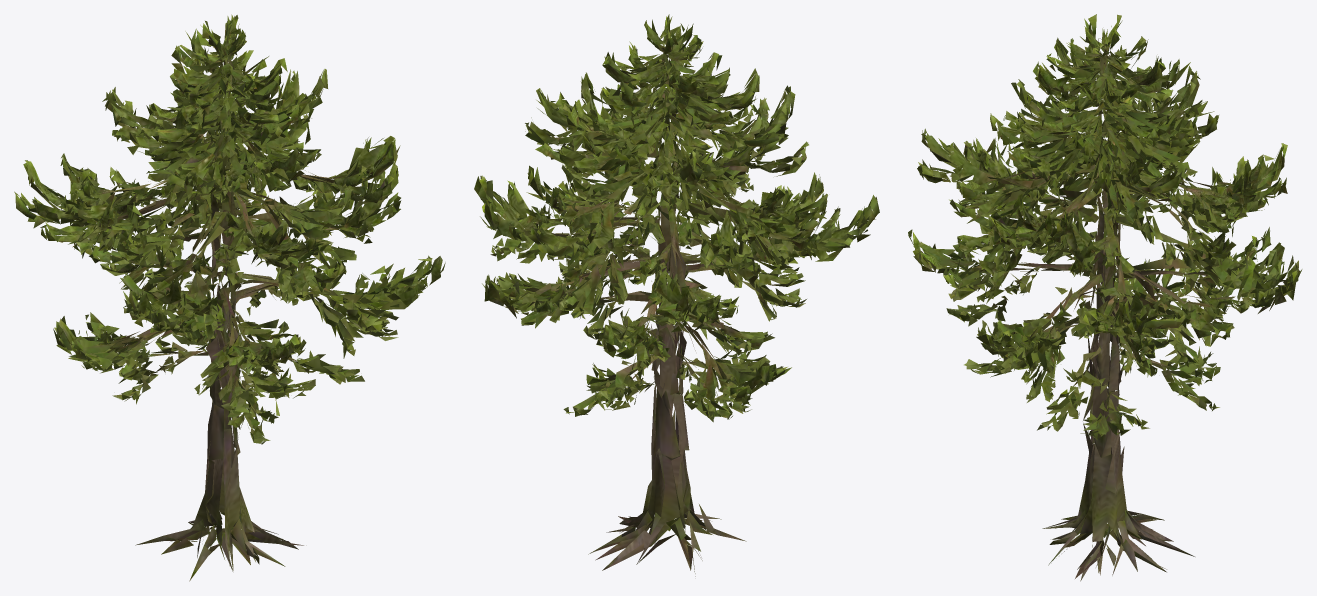
The model's file is araucaria2.glb.
3 renders of one model, left to right at view 1: azimuth 30°, elevation 25°; view 2: azimuth 150°, elevation 25°; view 3: azimuth 270°, elevation 25°, orthographic.
Parts seen in each view (by area): view 1: Mesh_0; view 2: Mesh_0; view 3: Mesh_0.
Part boxes in pixels (left/top/right/bottom): Mesh_0: left=14, top=14, right=445, bottom=581; Mesh_0: left=474, top=14, right=879, bottom=576; Mesh_0: left=908, top=14, right=1302, bottom=581.
Size of the model in its own units: 0.6868 by 1 by 0.6739.
1 material, 1 textured.
